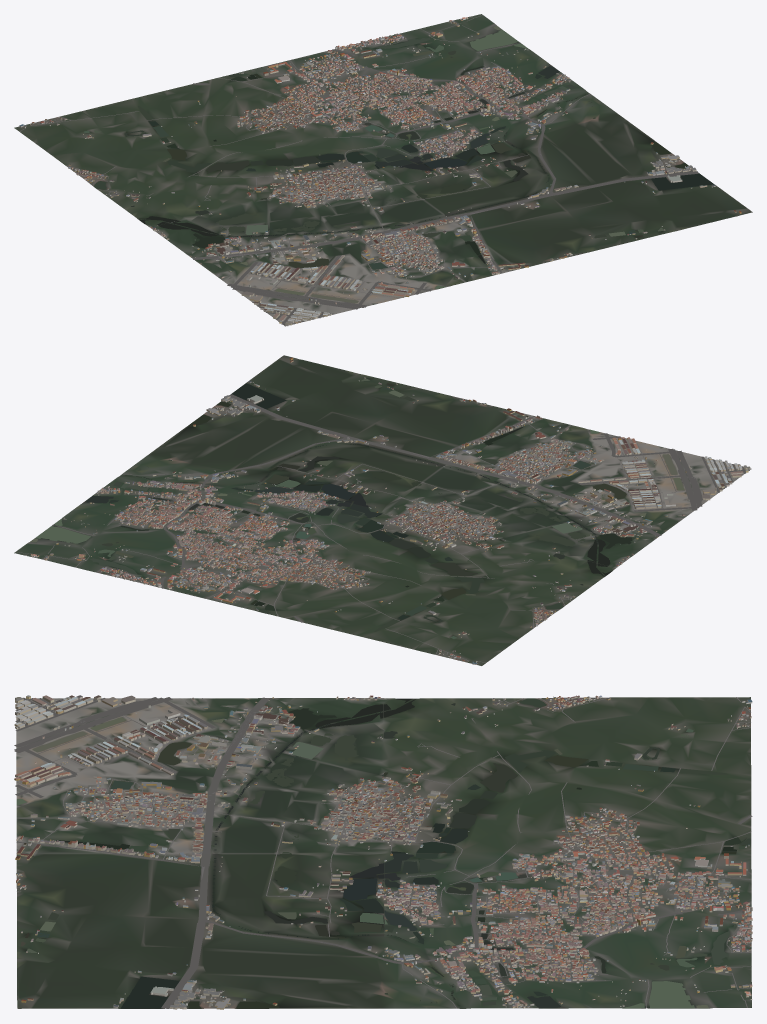
3 views of the same model, one above another, from view 1: azimuth 30°, elevation 25°; view 2: azimuth 150°, elevation 25°; view 3: azimuth 270°, elevation 25° (orthographic). The views are drawn at different scales.
Visible parts, largest first — view 1: ground, buildings, water, roads; view 2: ground, buildings, water, roads; view 3: ground, buildings, water, roads.
Part boxes in pixels (x1=…): ground: x1=14, y1=14, x2=752, y2=326; buildings: x1=19, y1=16, x2=741, y2=326; water: x1=84, y1=26, x2=713, y2=303; roads: x1=19, y1=15, x2=698, y2=326; ground: x1=14, y1=355, x2=751, y2=665; buildings: x1=26, y1=357, x2=750, y2=664; water: x1=30, y1=378, x2=684, y2=638; roads: x1=16, y1=394, x2=750, y2=662; ground: x1=16, y1=697, x2=751, y2=1008; buildings: x1=14, y1=695, x2=752, y2=1009; water: x1=16, y1=698, x2=750, y2=1008; roads: x1=14, y1=697, x2=752, y2=1008.
Bounding box in the file's own units: 2820 × 31.16 × 2820.
